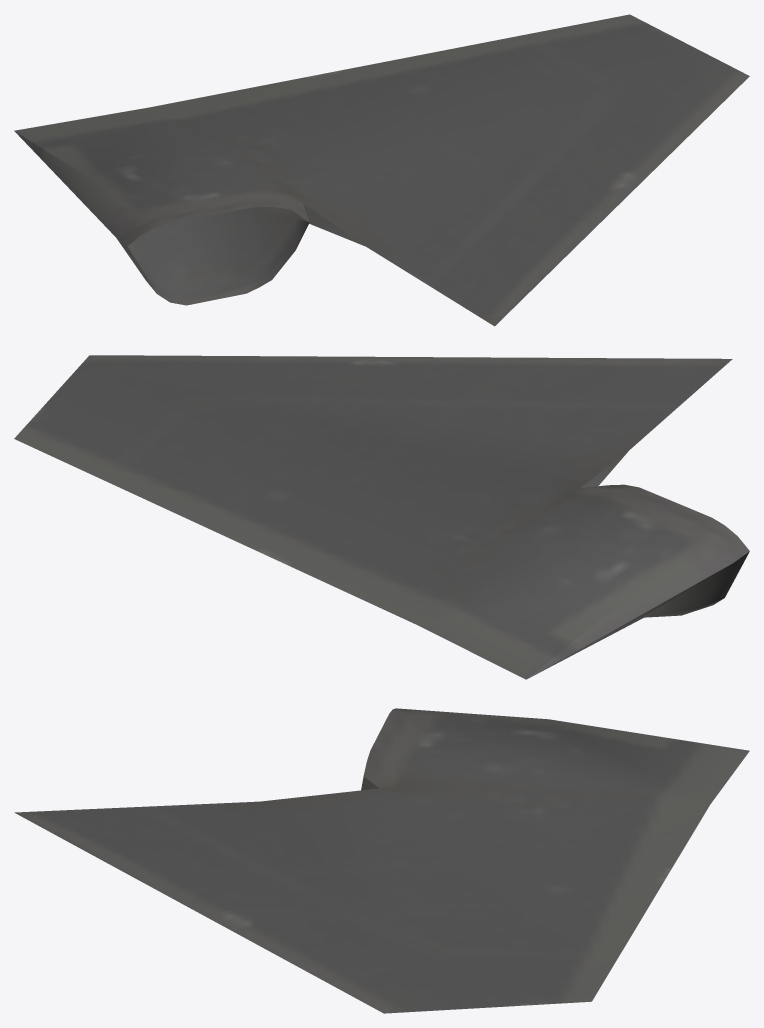
Rendered from backrightwing_new.obj.
The picture shows the model from 3 angles, top to bottom: view 1: azimuth 30°, elevation 25°; view 2: azimuth 150°, elevation 25°; view 3: azimuth 270°, elevation 25°; orthographic projection. The views are drawn at different scales.
Parts seen in each view (by area): view 1: f35c-airframe.003; view 2: f35c-airframe.003; view 3: f35c-airframe.003.
Boxes of the visible parts, bbox=[...] form: f35c-airframe.003: bbox=[14, 14, 749, 326]; f35c-airframe.003: bbox=[14, 355, 749, 679]; f35c-airframe.003: bbox=[14, 708, 749, 1013].
Size of the model in its own units: 3.25 by 0.4916 by 3.07.
Materials: 1 (1 with a texture image).
